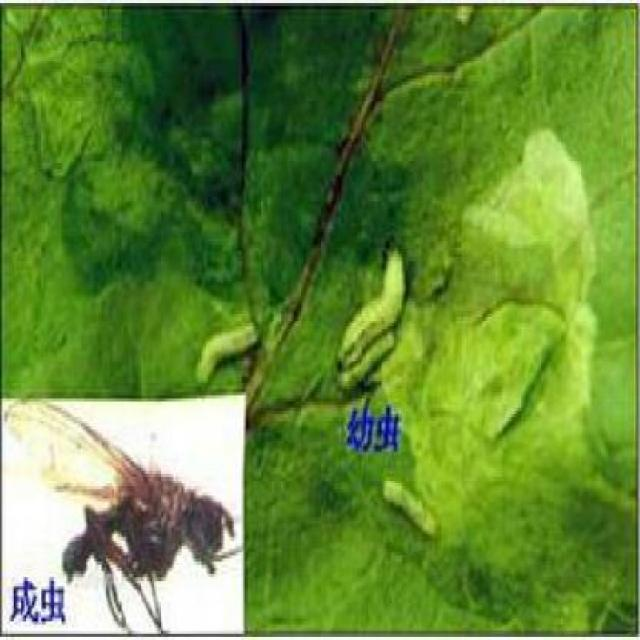whorl-maggot: (321, 240, 417, 398), (383, 463, 449, 551), (191, 318, 263, 388)
